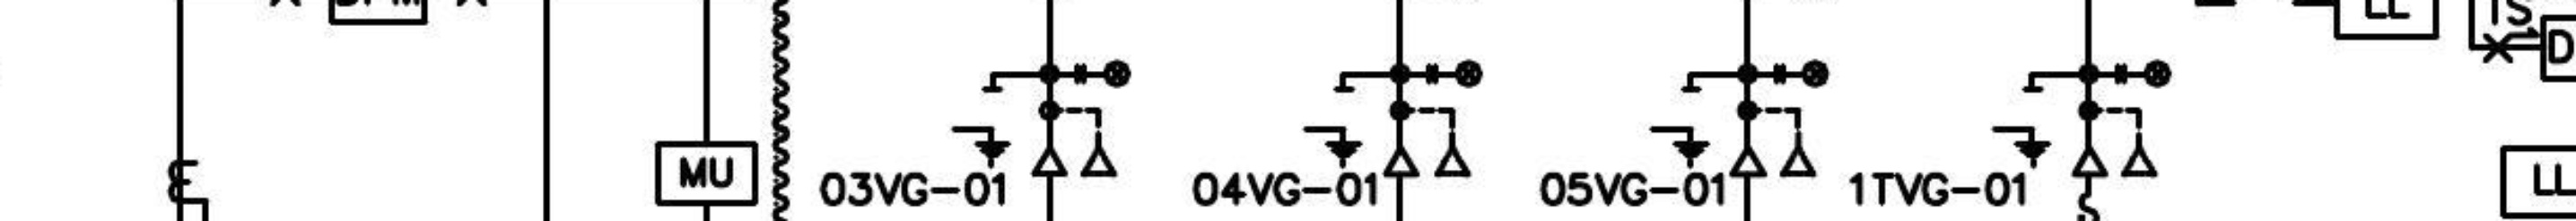22_gs: (950, 86, 1014, 170), (1301, 86, 1365, 170), (1648, 84, 1712, 168), (1990, 86, 2054, 170)
22_ll: (1424, 58, 1483, 91), (1073, 58, 1132, 89), (1771, 58, 1830, 89), (2114, 58, 2173, 89)
MU: (654, 140, 759, 208)
terminator_w_future: (1028, 106, 1122, 180), (1380, 107, 1474, 180), (1728, 106, 1822, 178), (2070, 106, 2160, 178)
